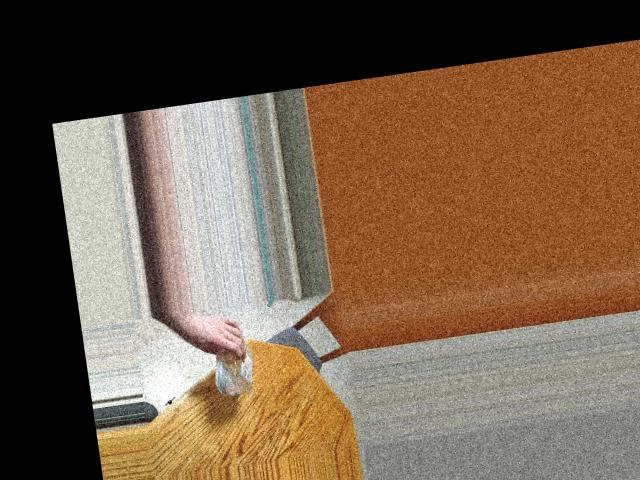cheese: (202, 325, 259, 390)
